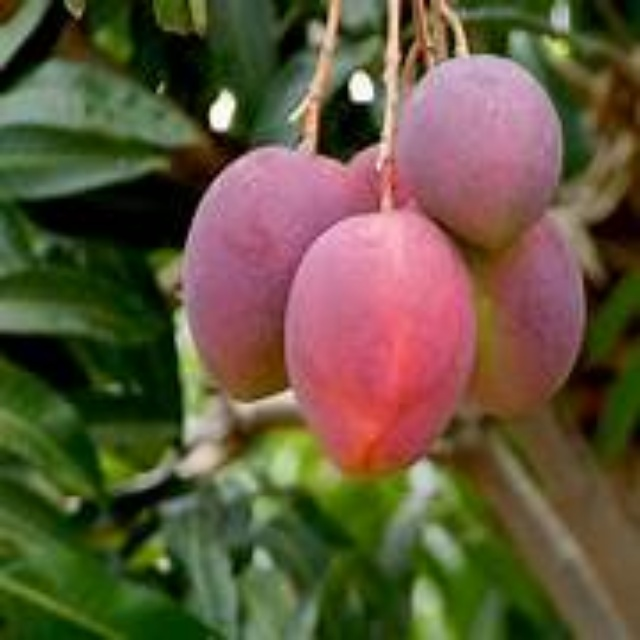mango: (183, 144, 381, 399), (289, 214, 473, 472), (402, 57, 551, 244), (458, 223, 587, 425)
